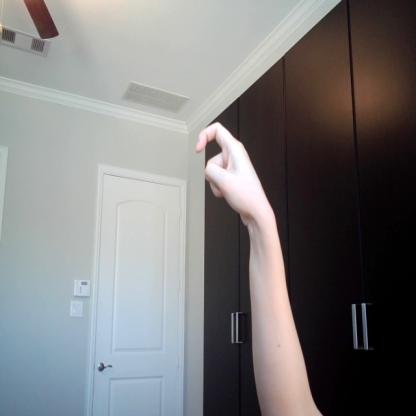X: (191, 118, 273, 222)
